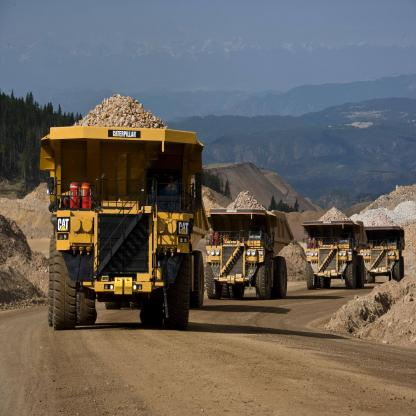dump_truck: (35, 79, 203, 346), (206, 182, 300, 319), (305, 202, 369, 302), (360, 198, 406, 285)
